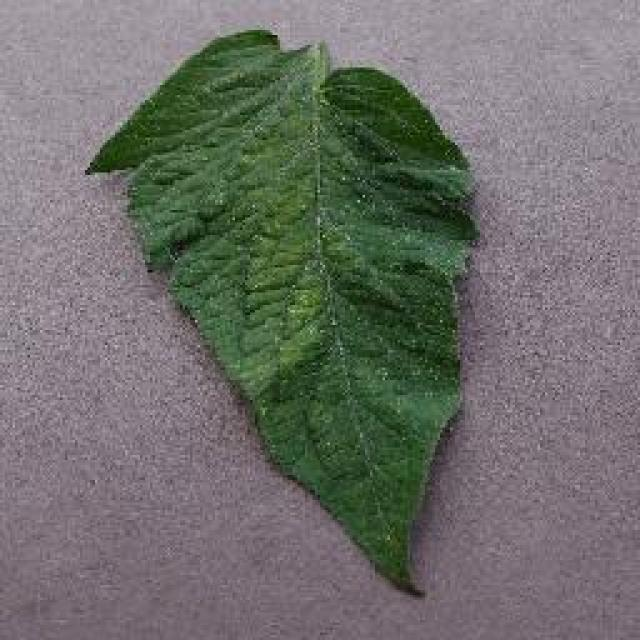Tomato___Spider_mites Two-spotted_spider_mite: (88, 30, 475, 592)
